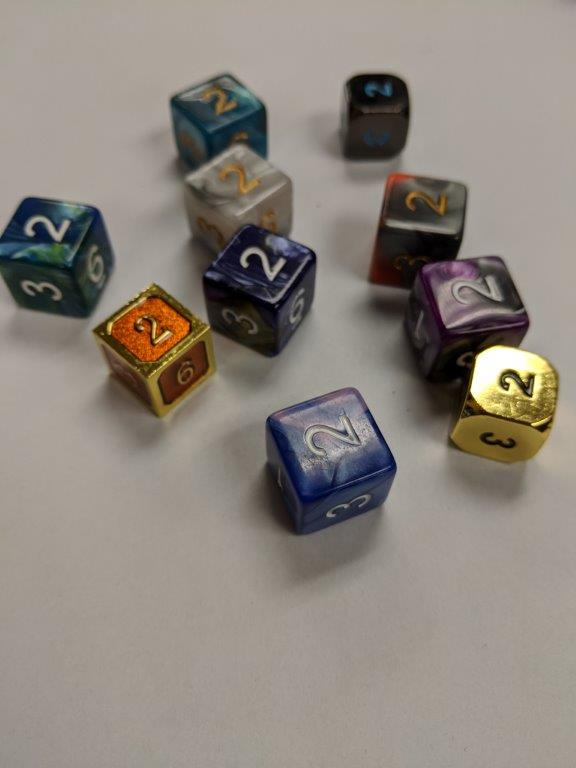d6-2: (267, 388, 398, 536), (91, 281, 215, 419), (395, 255, 525, 376), (204, 222, 316, 356), (1, 195, 113, 322), (442, 345, 560, 465), (365, 171, 469, 285), (182, 140, 295, 239), (169, 66, 275, 168), (338, 69, 418, 162)
